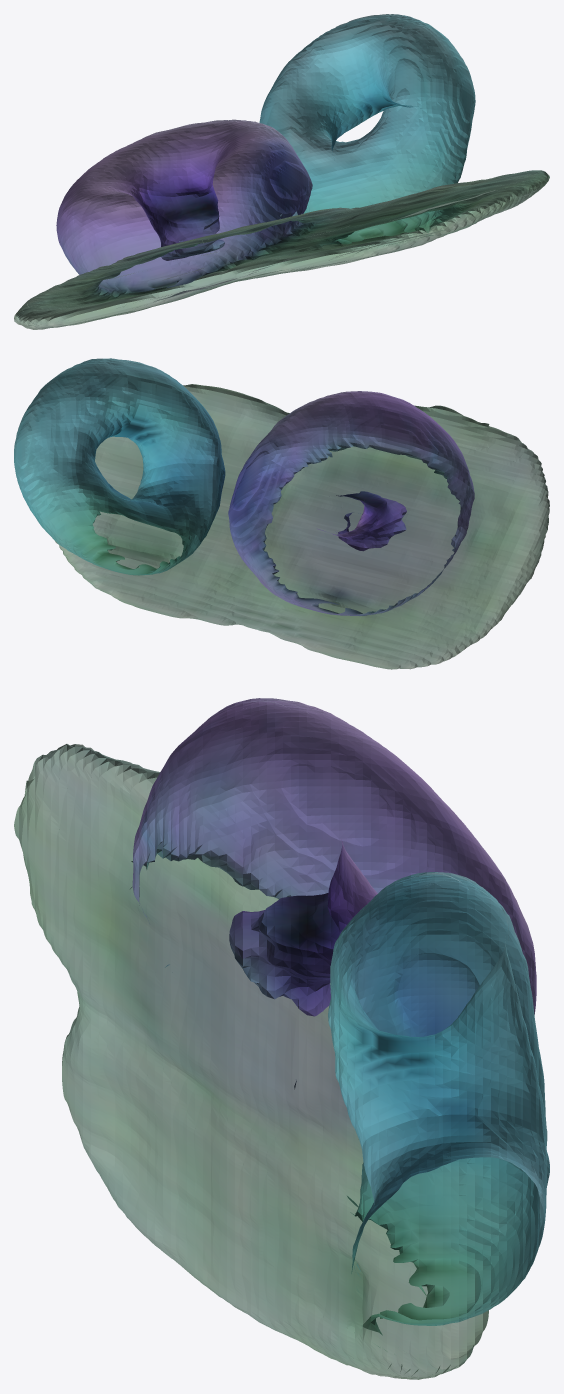
3 renders of one model, top to bottom at view 1: azimuth 30°, elevation 25°; view 2: azimuth 150°, elevation 25°; view 3: azimuth 270°, elevation 25°, orthographic. The views are drawn at different scales.
Parts seen in each view (by area): view 1: geometry_0; view 2: geometry_0; view 3: geometry_0.
Boxes of the visible parts, <box> form: geometry_0: <box>14,14,549,329</box>; geometry_0: <box>14,358,549,669</box>; geometry_0: <box>14,698,549,1379</box>.
Size of the model in its own units: 1.6 by 0.7374 by 0.7768.
